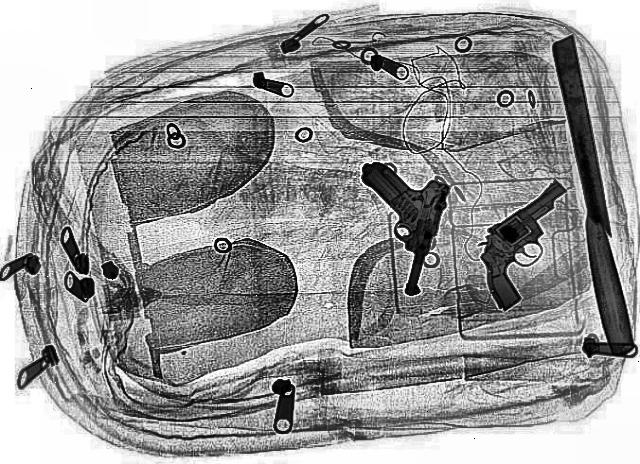Gun: (430, 180, 626, 314), (317, 161, 465, 299)
Knife: (546, 36, 636, 356)
